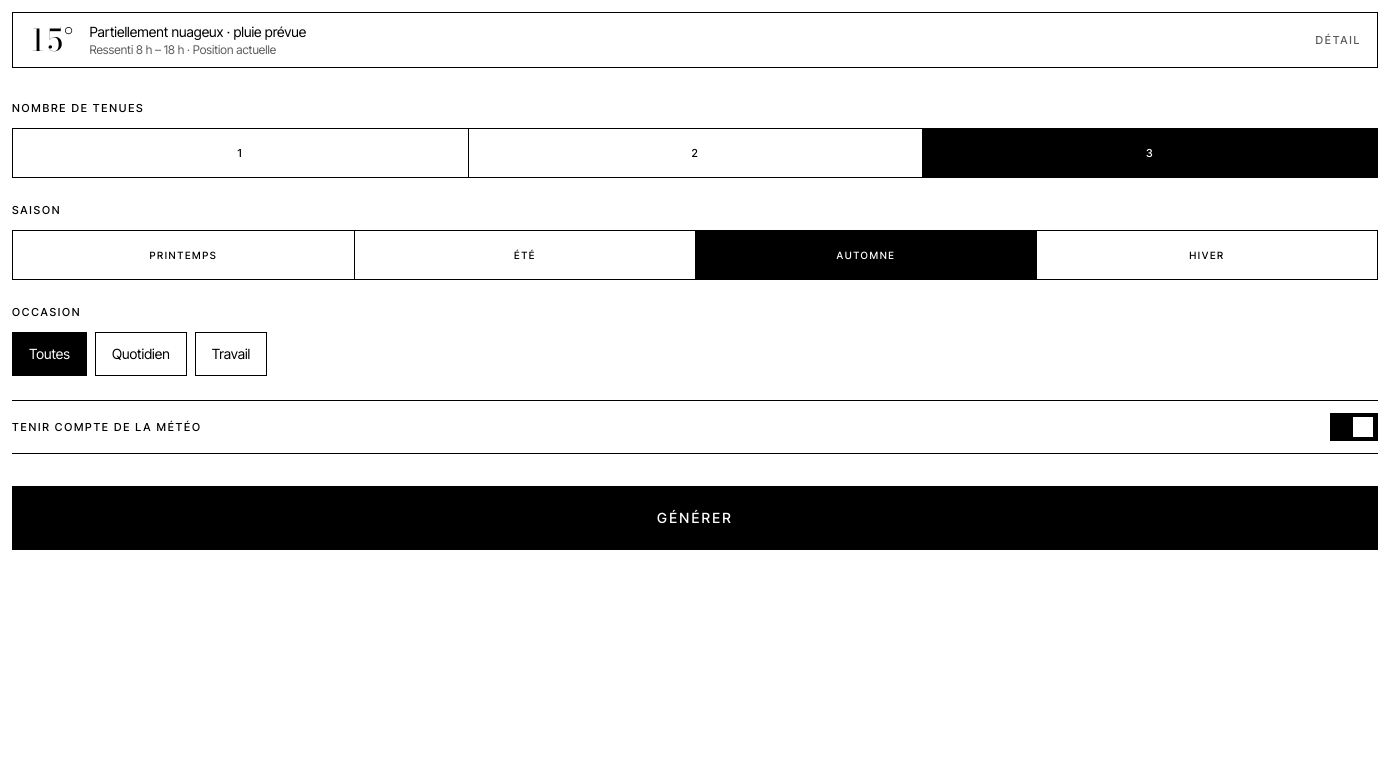
OutfitGenerator › explains which filter blocks: no rain-proof shoes
The image size is (1390, 780).
Expected: the button named "Voir le détail de la journée" shows "Partiellement nuageux · pluie prévue", [12,12,1378,68]
Click the button "Générer" at coordinates (695, 518), box [12,486,1378,550]
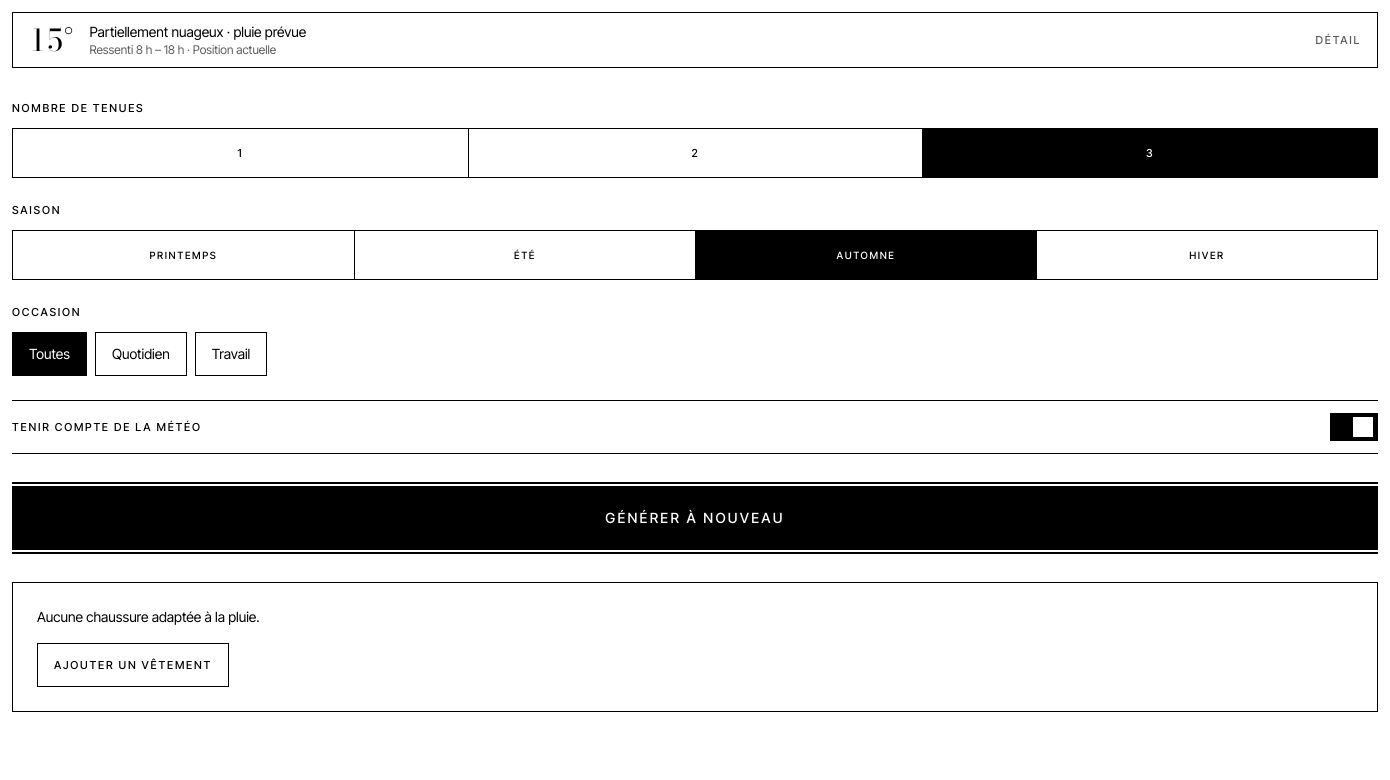
Result: the message shows "Aucune chaussure adaptée à la pluie." at [37,608,260,625]
